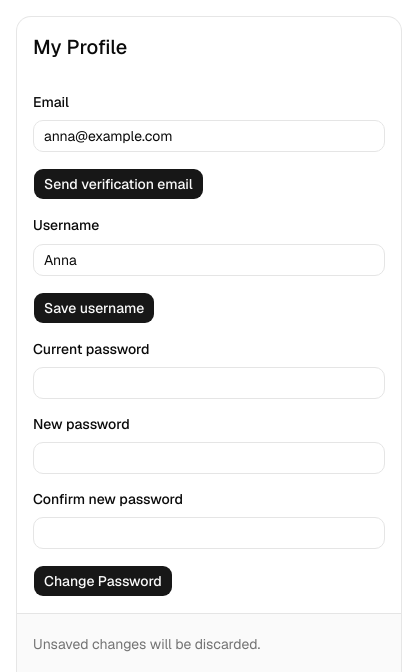
Test: saves only the trimmed username through the existing authenticated self API
This screenshot has width=419, height=672.
Replace the text in the field labelled "Username" with "  Anna New  ". click: (209, 260)
box: [33,244,385,276]
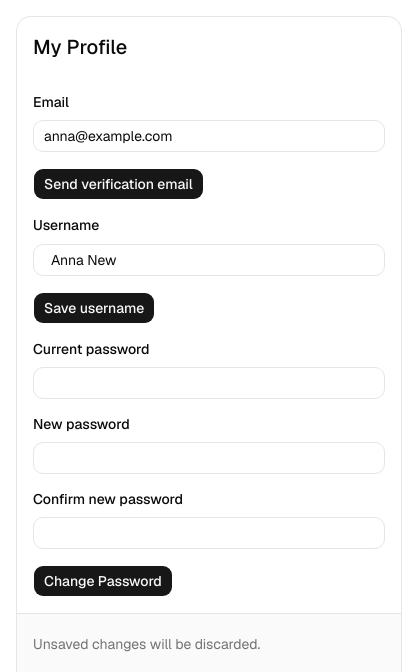
Click the button "Save username". click: (94, 308)
box: [33,292,155,324]
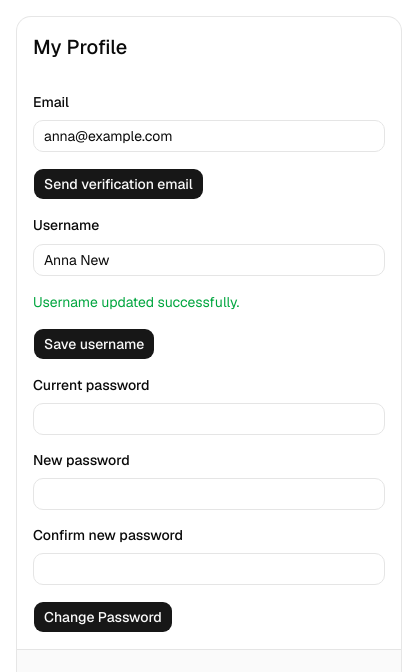
Check: the text "Username updated successfully." is shown, box [33,292,239,310]
